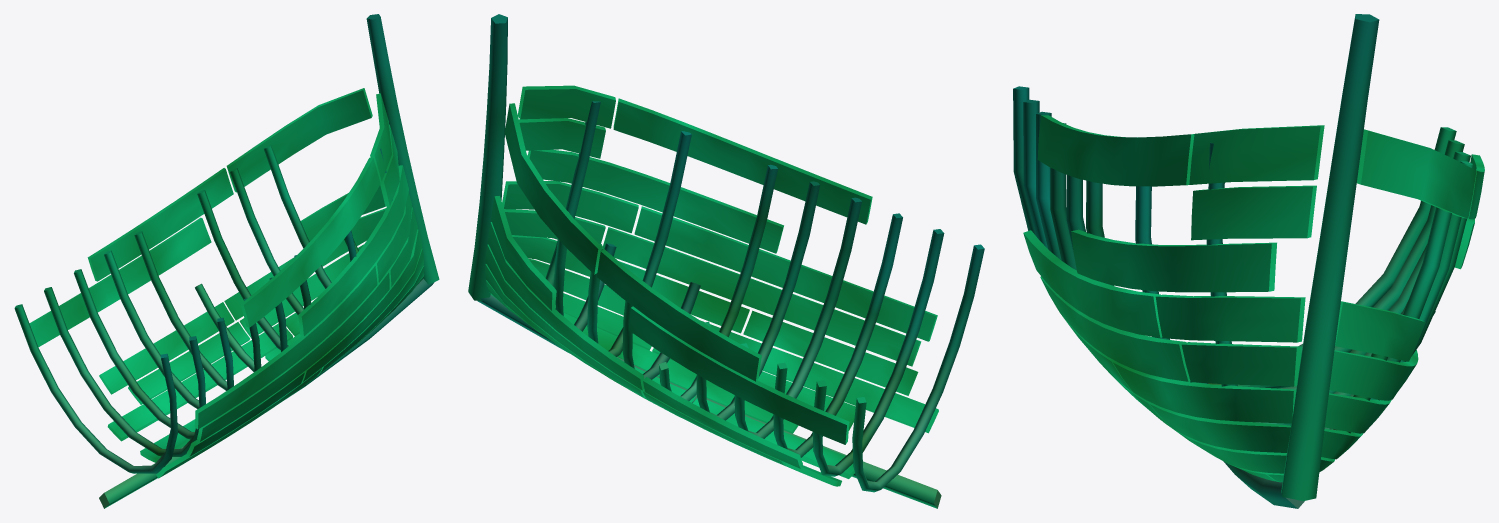
The model's file is wreck_bow.glb.
The picture shows the model from 3 angles, left to right: view 1: azimuth 30°, elevation 25°; view 2: azimuth 150°, elevation 25°; view 3: azimuth 270°, elevation 25°; orthographic projection. The views are drawn at different scales.
Visible parts, largest first — view 1: wreck_bow; view 2: wreck_bow; view 3: wreck_bow.
Boxes of the visible parts, <box> form: wreck_bow: <box>14,14,439,508</box>; wreck_bow: <box>468,14,984,508</box>; wreck_bow: <box>1013,14,1484,508</box>.
Size of what is drawn, in the model's own units: 6.39 by 6.05 by 3.95.
